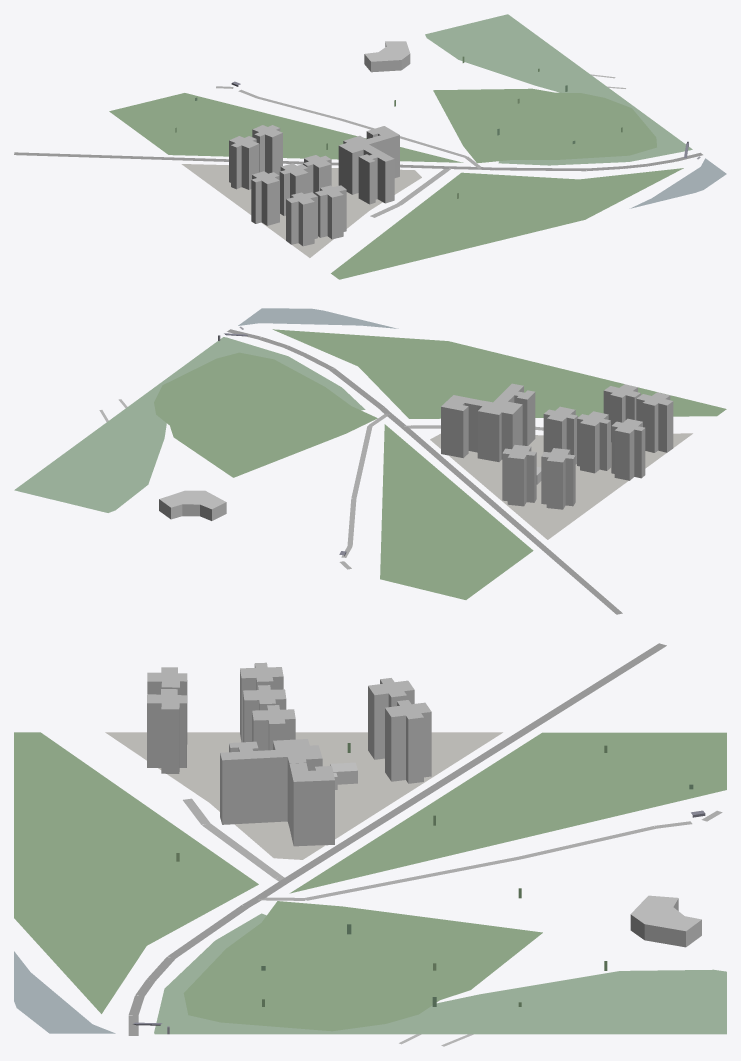
The picture shows the model from 3 angles, top to bottom: view 1: azimuth 30°, elevation 25°; view 2: azimuth 150°, elevation 25°; view 3: azimuth 270°, elevation 25°; orthographic projection. The views are drawn at different scales.
Size of the model in its own units: 667 by 51.43 by 500.
